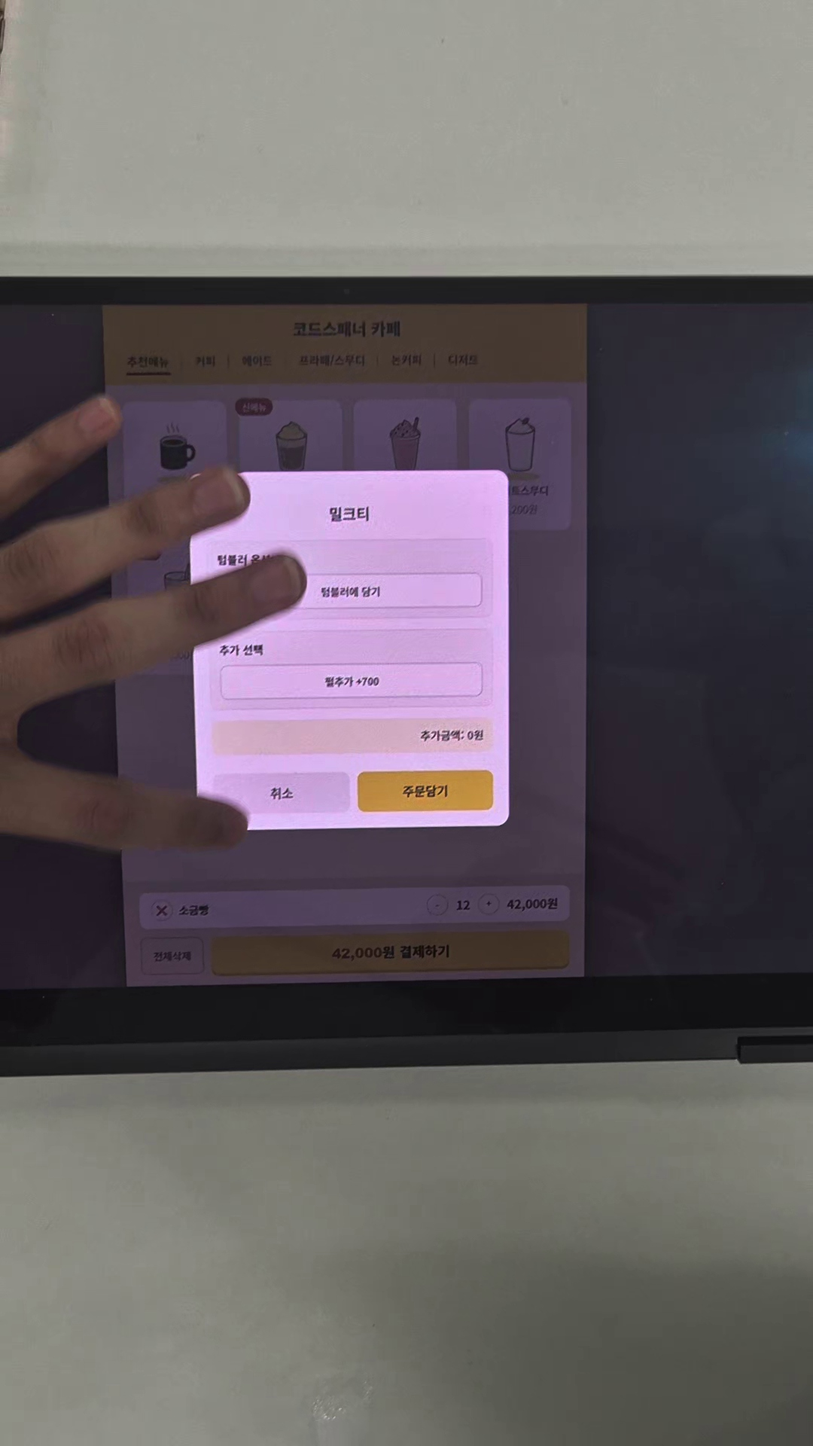action_button: (213, 770, 349, 815), (356, 770, 496, 813)
option_button: (217, 573, 484, 611), (225, 663, 486, 701)
popup_modal: (194, 467, 511, 828)
